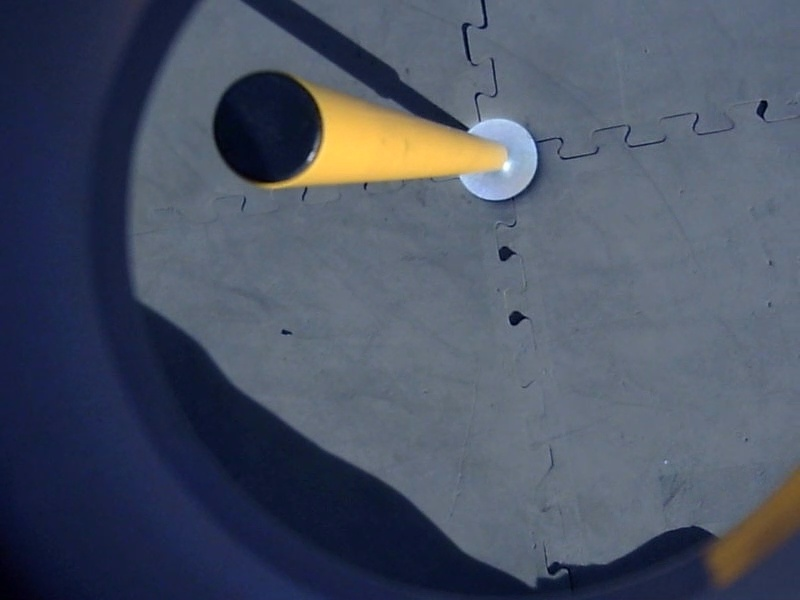tip: (205, 66, 332, 191)
